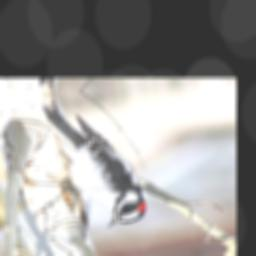Woodpecker: (40, 94, 148, 234)
